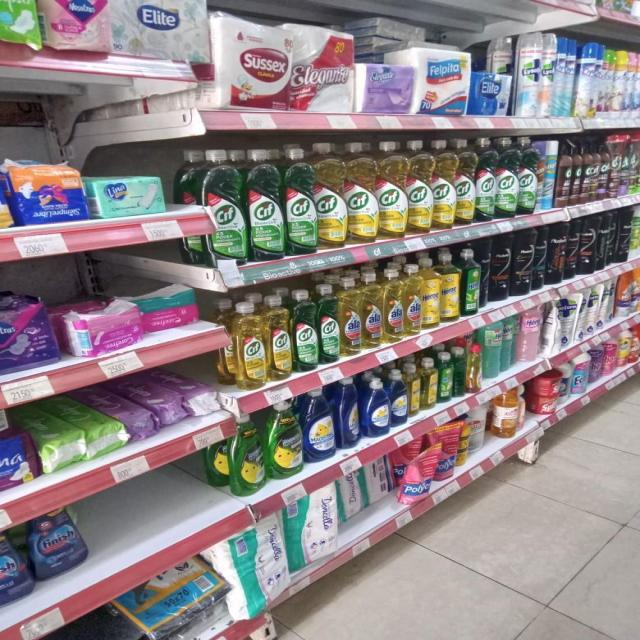ala_conc_amarillo: (340, 278, 362, 356), (362, 272, 382, 350), (383, 268, 403, 344), (404, 264, 422, 338)
ala_conc_azul: (0, 534, 26, 607)
cif_conc_bot_amarilla: (316, 143, 346, 250), (347, 141, 377, 244), (233, 300, 266, 390), (378, 140, 406, 239), (407, 139, 432, 235), (267, 294, 292, 381), (432, 138, 454, 230), (456, 138, 474, 226)
cif_conc_botella_verde: (200, 148, 246, 264), (247, 147, 283, 260), (285, 145, 315, 256), (293, 289, 317, 372), (496, 136, 517, 219), (318, 284, 339, 365), (476, 137, 495, 222), (518, 137, 536, 216)
heroe: (518, 304, 541, 364)
magistral_con_azul: (303, 388, 335, 462), (337, 378, 360, 450), (362, 377, 389, 438)
